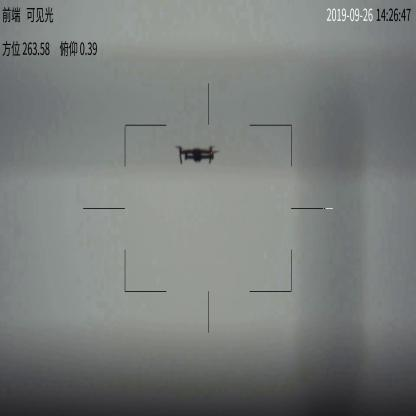uav: (171, 146, 221, 167)
